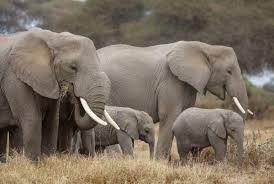Elephant: (4, 30, 115, 158)
